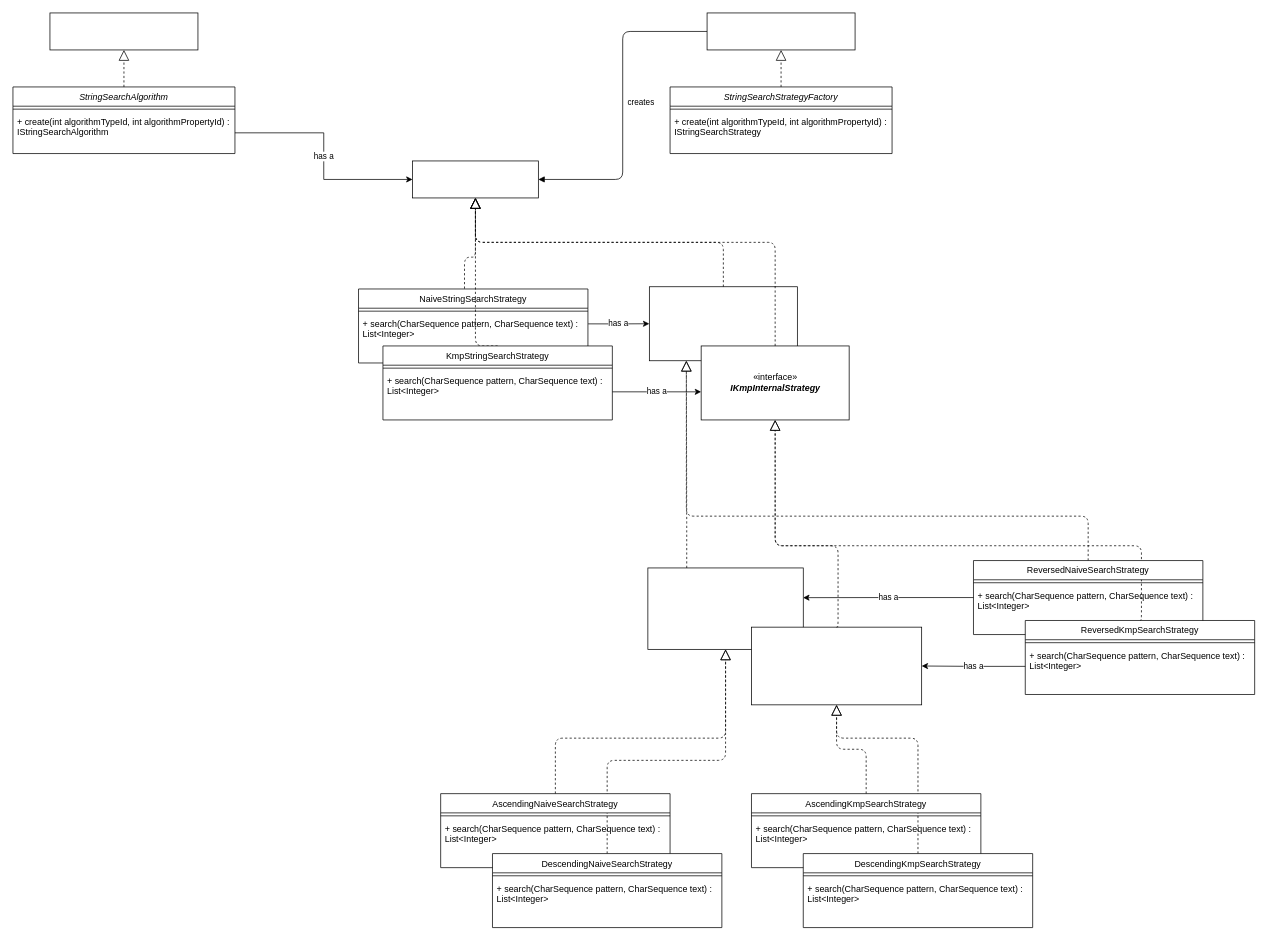
Image size: 1268x941. Some labels were removed from this diagram. The centre of each missing label's shape, as x and y in pixels:
"«interface» IKmpDirectionalSearchStrategy" goes at point 836,665.
"«interface» INaiveDirectionalSearchStrategy" goes at point 725,608.
"«interface» INaiveInternalStrategy" goes at point 723,323.
"«interface» IStringSearch Strategy .Factory" goes at point 780,31.
"«interface» IStringSearchAlgorithm" goes at point 123,31.
"«interface» IStringSearchStrategy" goes at point 475,179.
